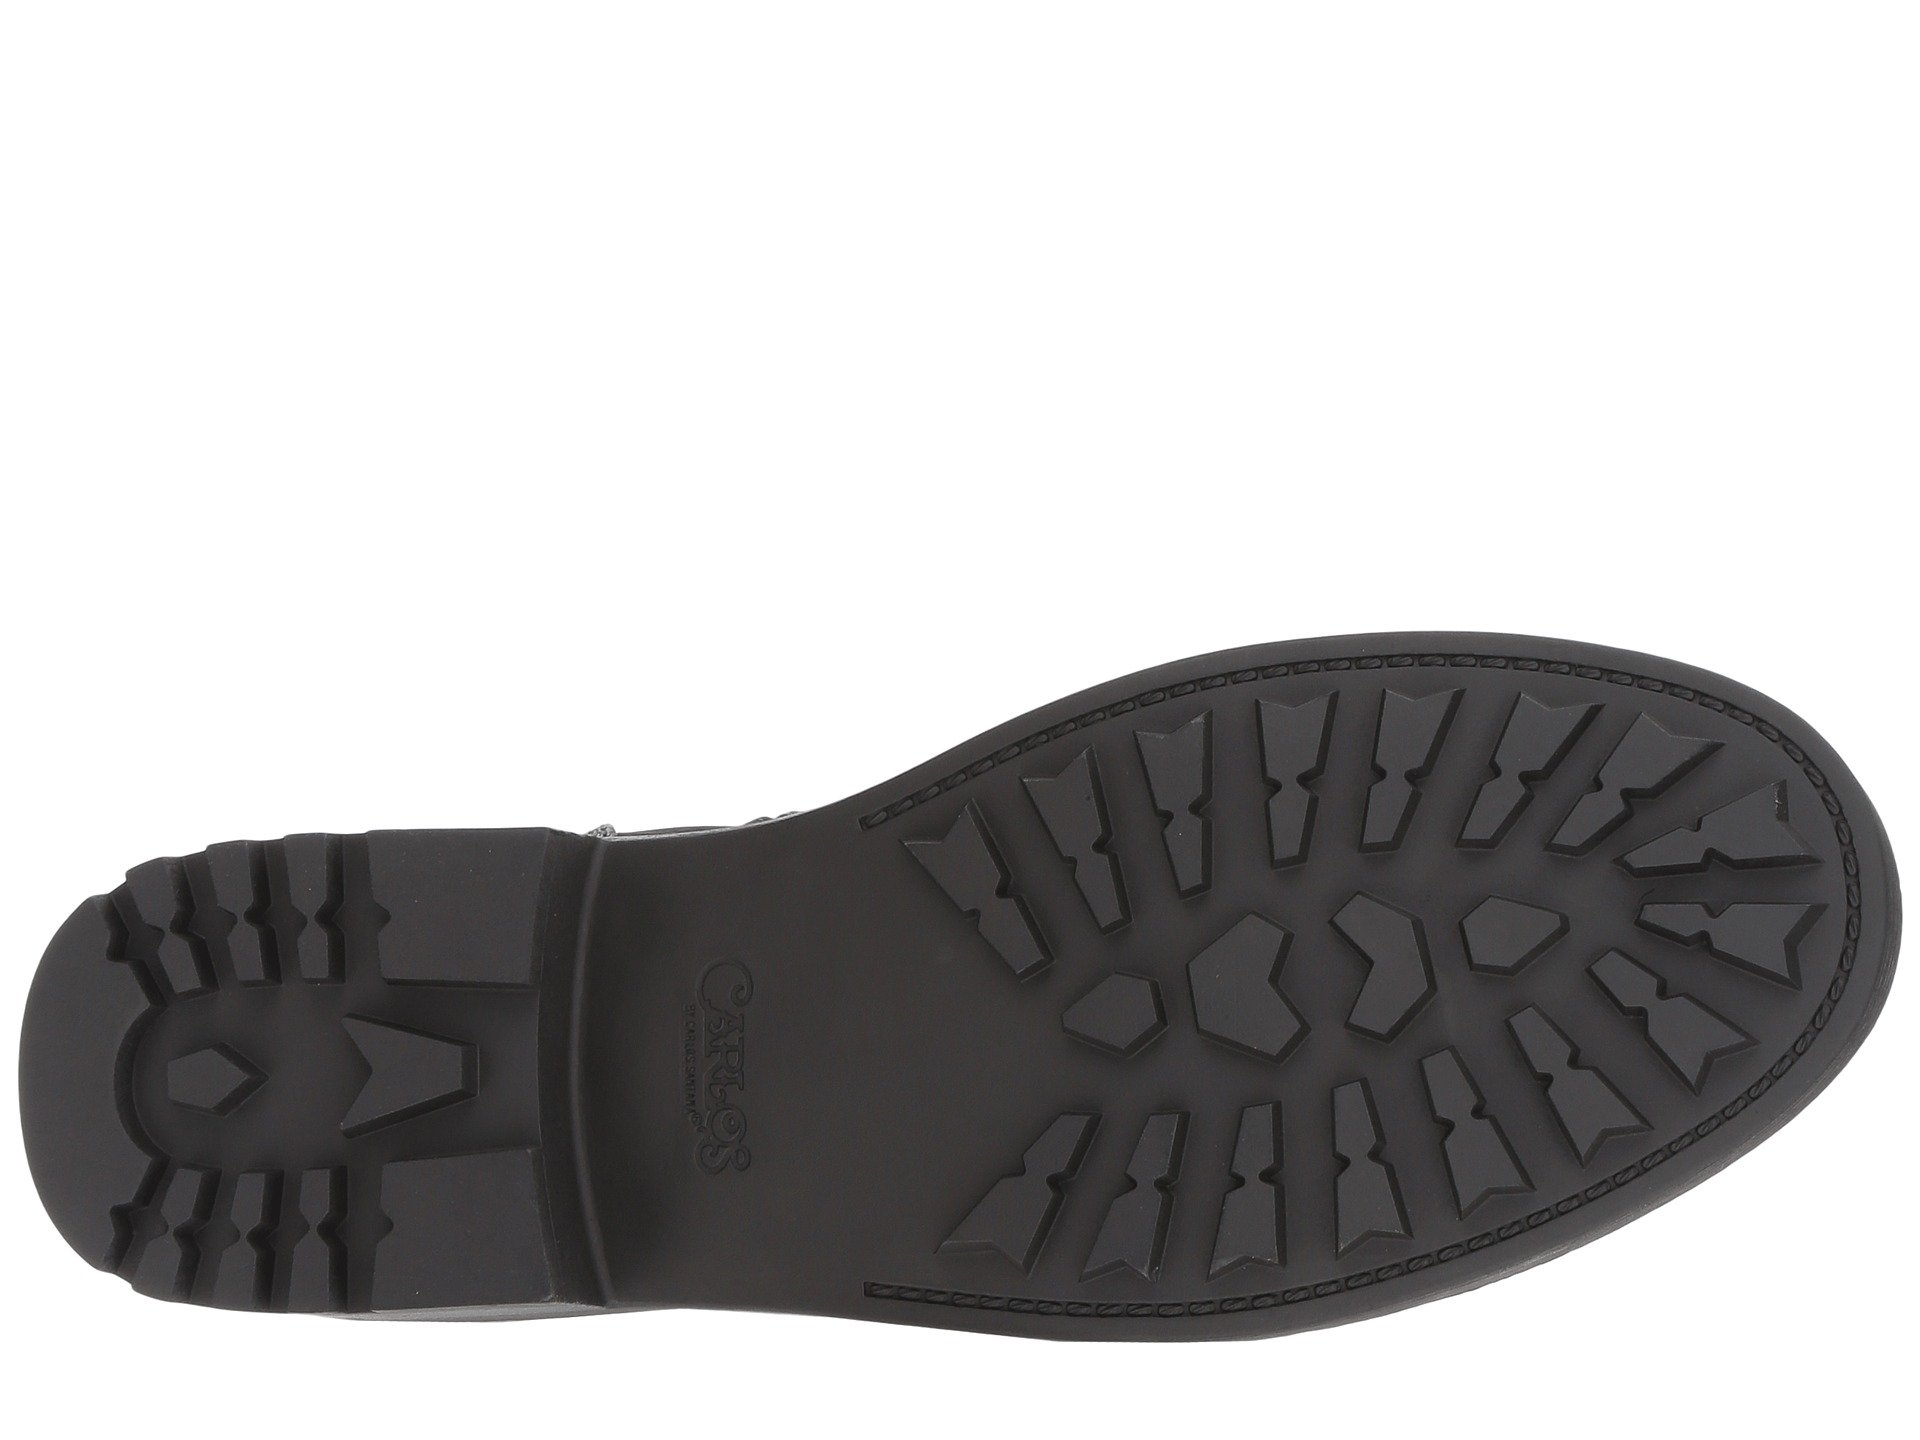bowtie: (1215, 652, 1468, 886), (125, 761, 351, 1007)
polygon: (1404, 870, 1628, 1060), (125, 1016, 284, 1153)
